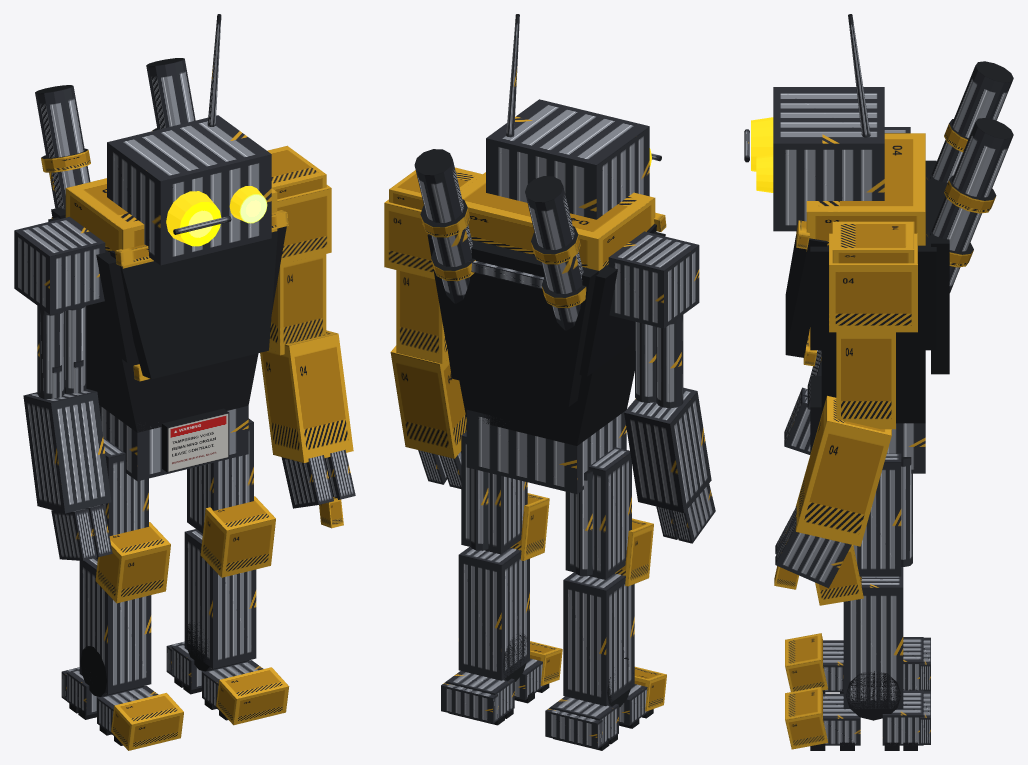
Rendered from scrap_worker.glb.
3 views of the same model, side by side, from view 1: azimuth 30°, elevation 25°; view 2: azimuth 150°, elevation 25°; view 3: azimuth 270°, elevation 25° (orthographic). The views are drawn at different scales.
Parts seen in each view (by area): view 1: ScrapWorker_Mesh; view 2: ScrapWorker_Mesh; view 3: ScrapWorker_Mesh.
Part boxes in pixels (<box>): ScrapWorker_Mesh: <box>14,14,355,750</box>; ScrapWorker_Mesh: <box>384,14,715,750</box>; ScrapWorker_Mesh: <box>744,14,1013,750</box>.
Bounding box in the file's own units: 0.92 × 2.13 × 0.7254.
Materials: 2 (2 with a texture image).
